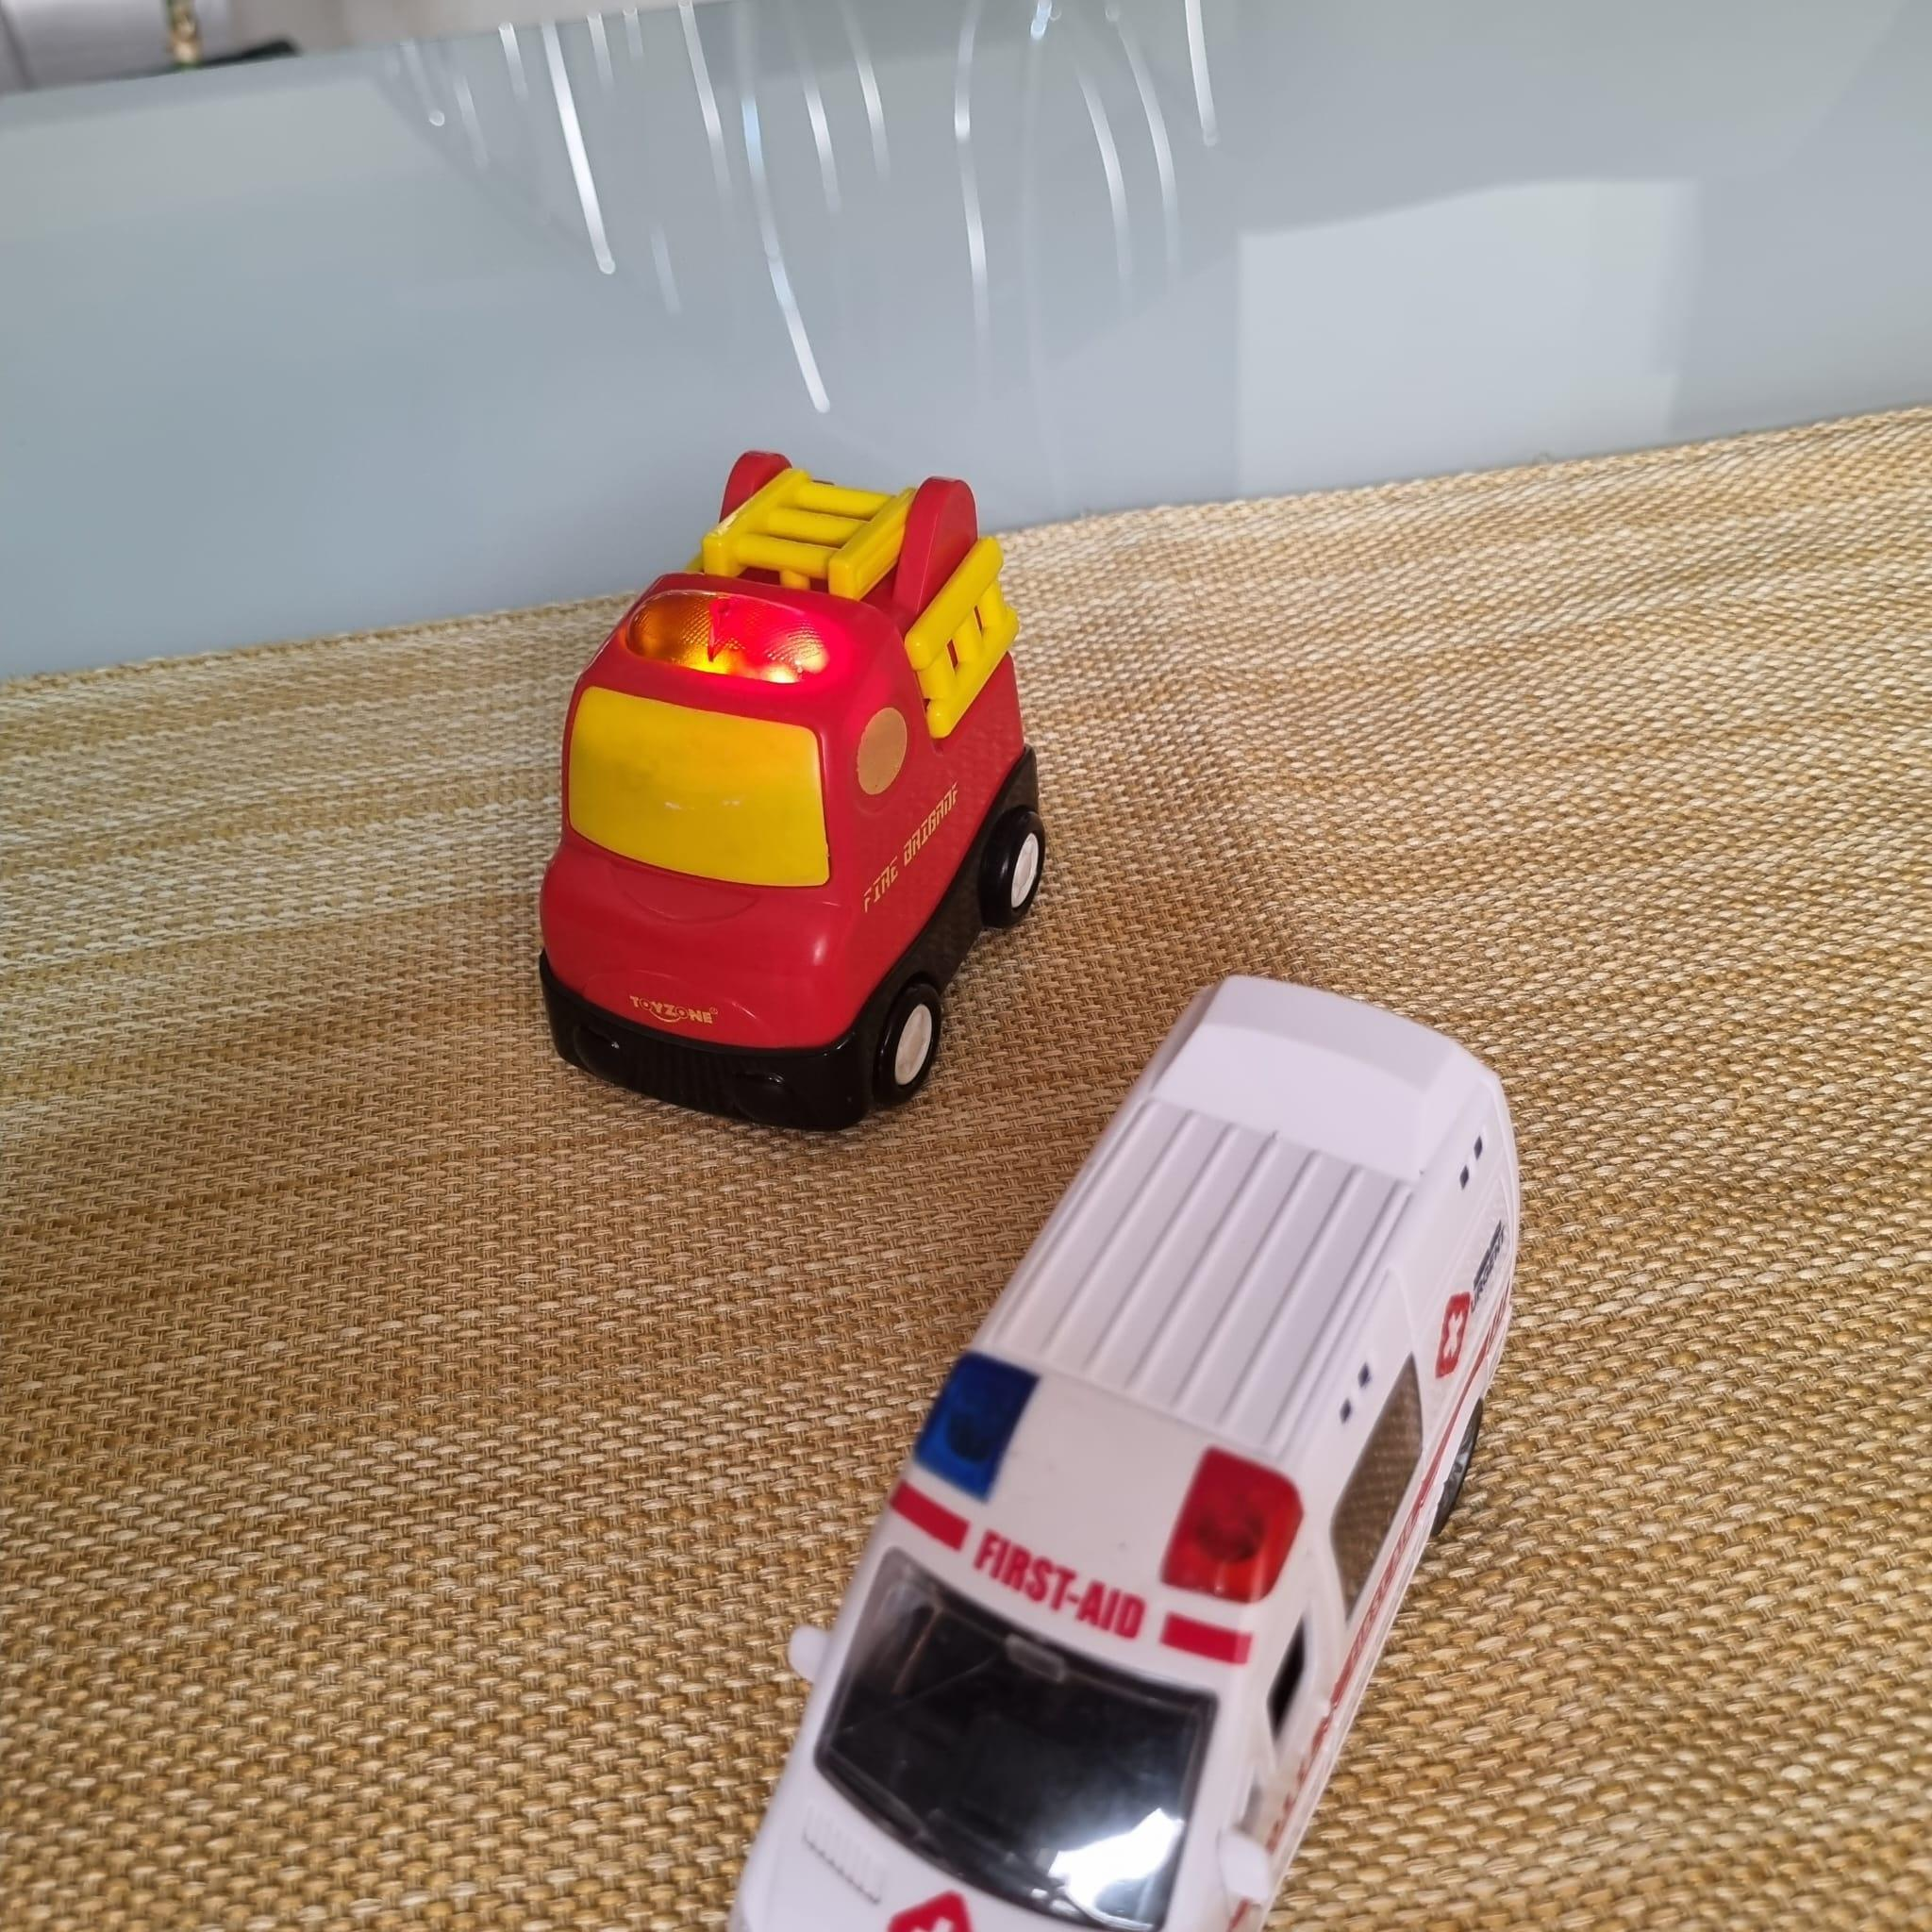ambulance_off: (713, 982, 1520, 1932)
firetruck_on: (543, 444, 1046, 1141)
